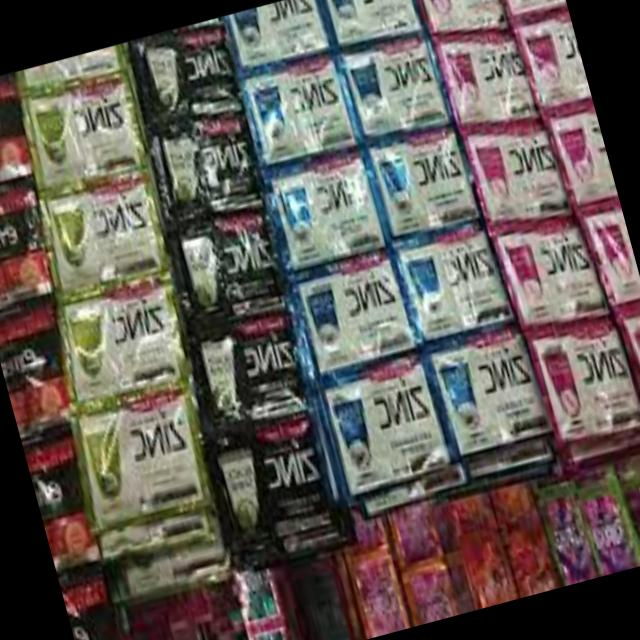KemasanPlastik: (223, 0, 537, 514), (94, 17, 367, 570), (0, 44, 266, 606), (420, 0, 640, 467), (0, 79, 140, 611)
